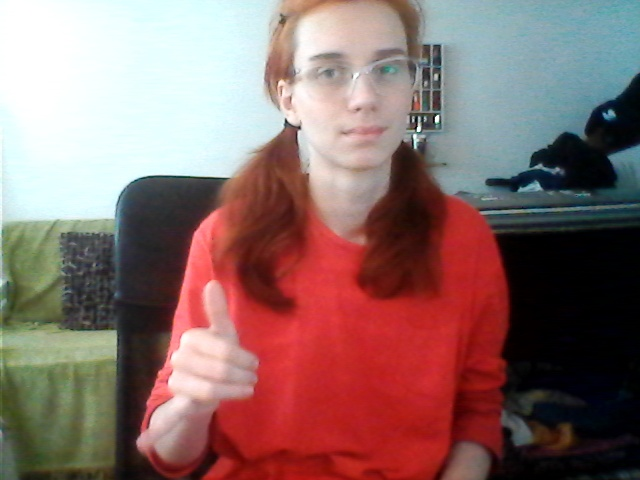ano: (122, 278, 271, 449)
